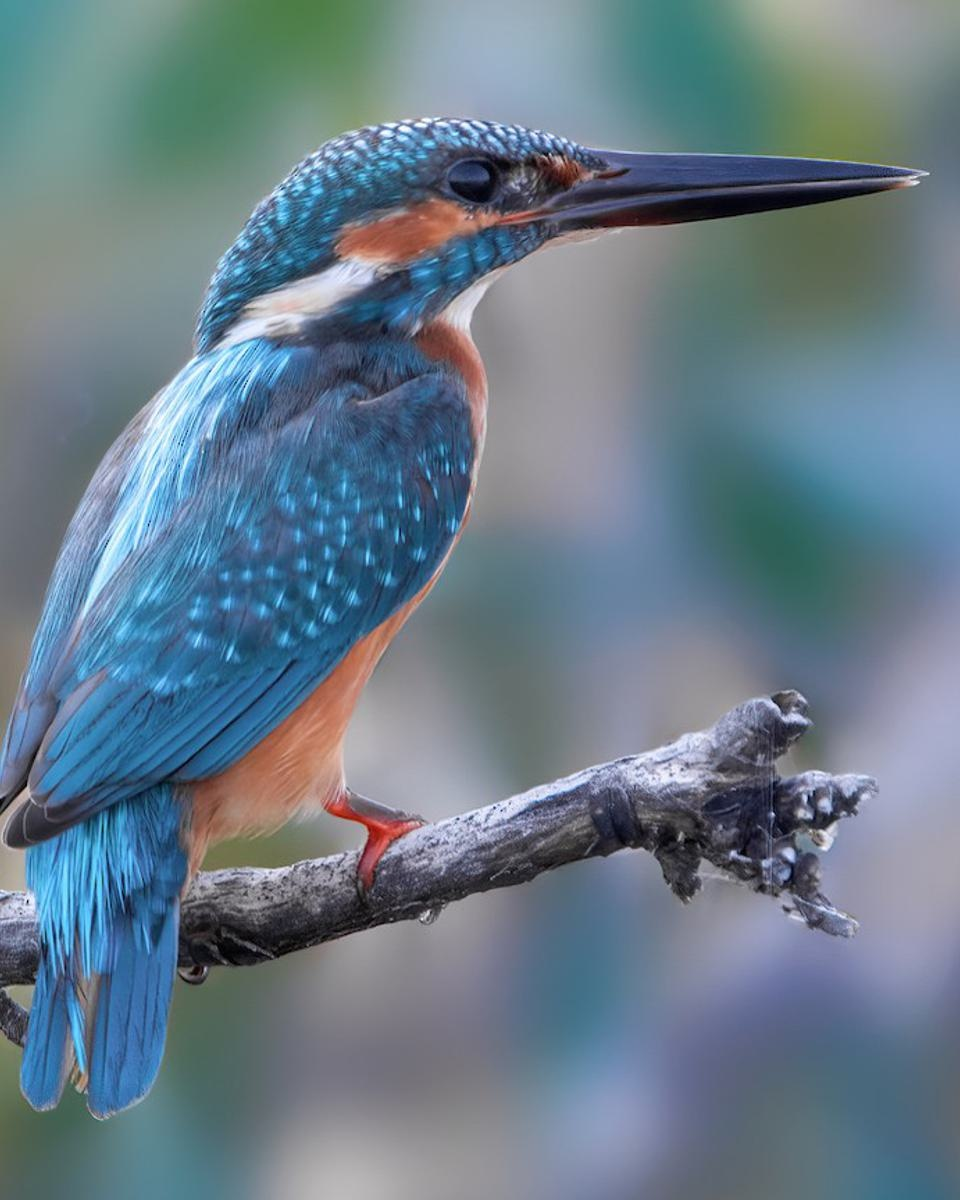kingfisher: (1, 84, 936, 1075)
